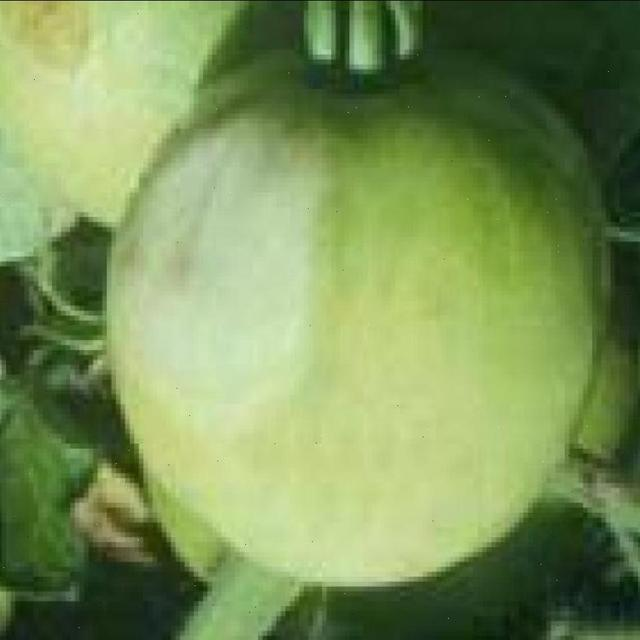Sunscald Fruit: (70, 59, 232, 308)
